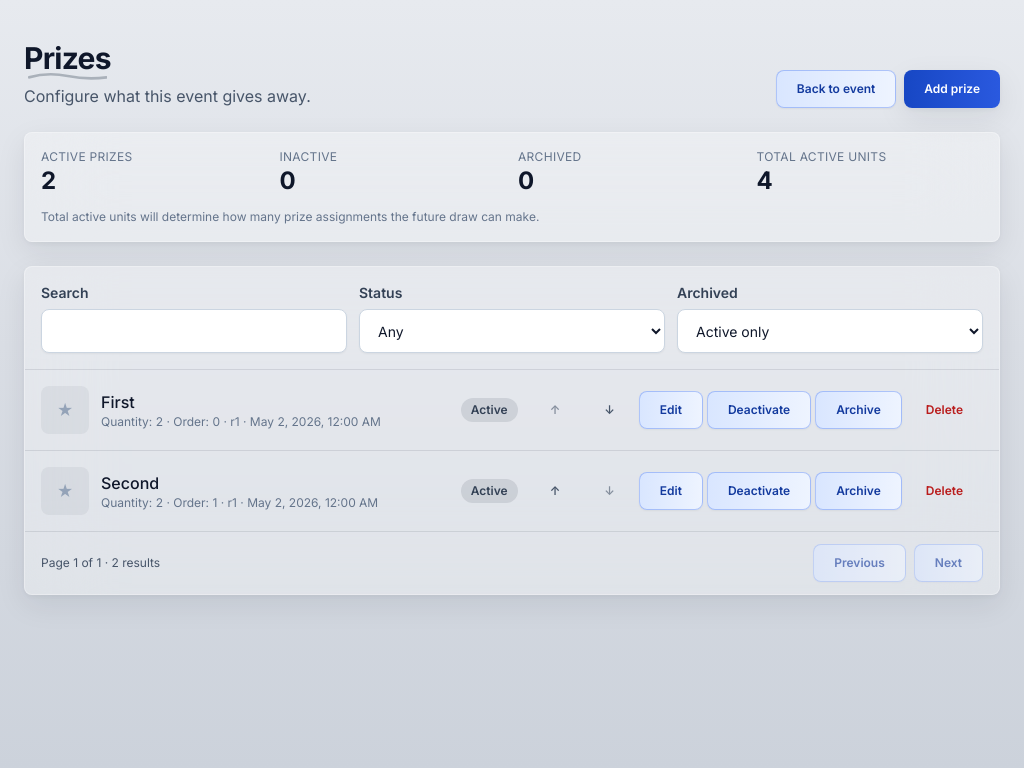
Test: reordering › lets a pending order be discarded
Expected: the text "First" is shown, [101,392,135,412]
Click the button named "move down".
click(610, 410)  # box [584,391,635,429]
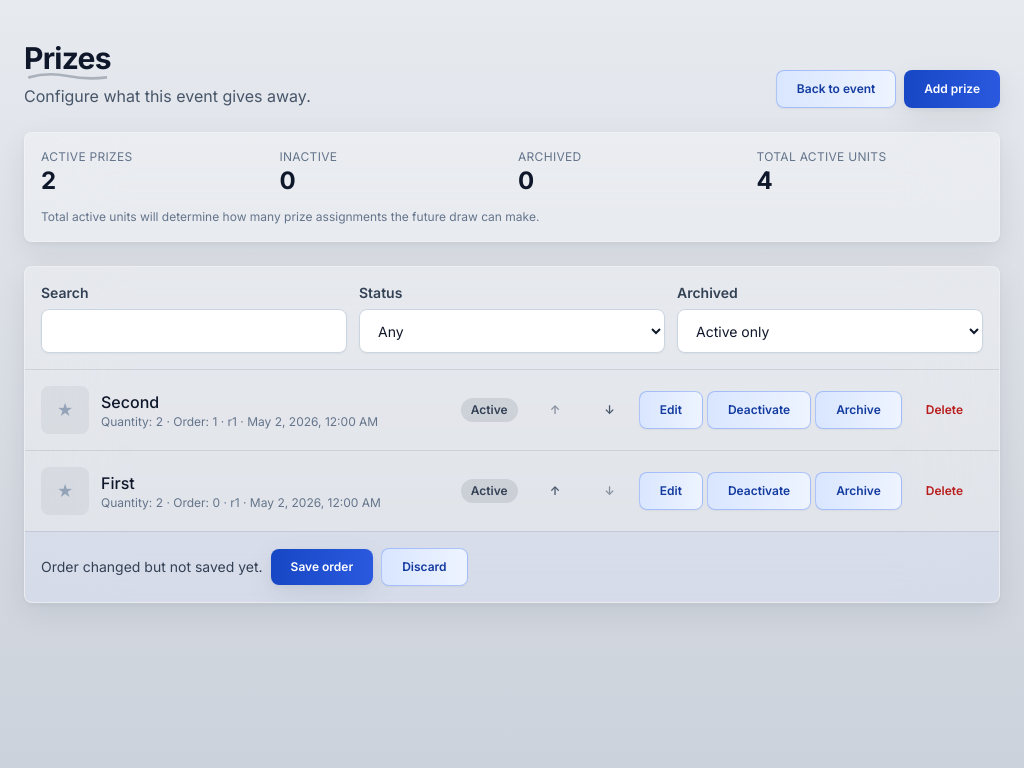
Click the button "Discard".
click(424, 567)  # box [381,548,468,586]
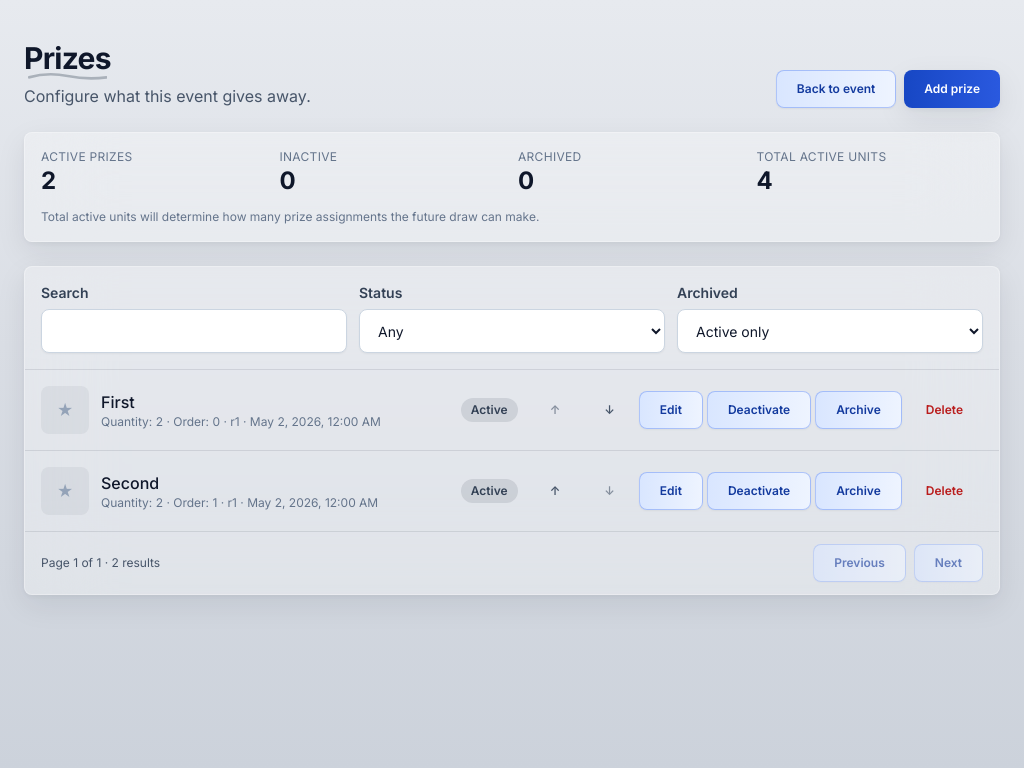
Now the text "not saved yet" is gone
